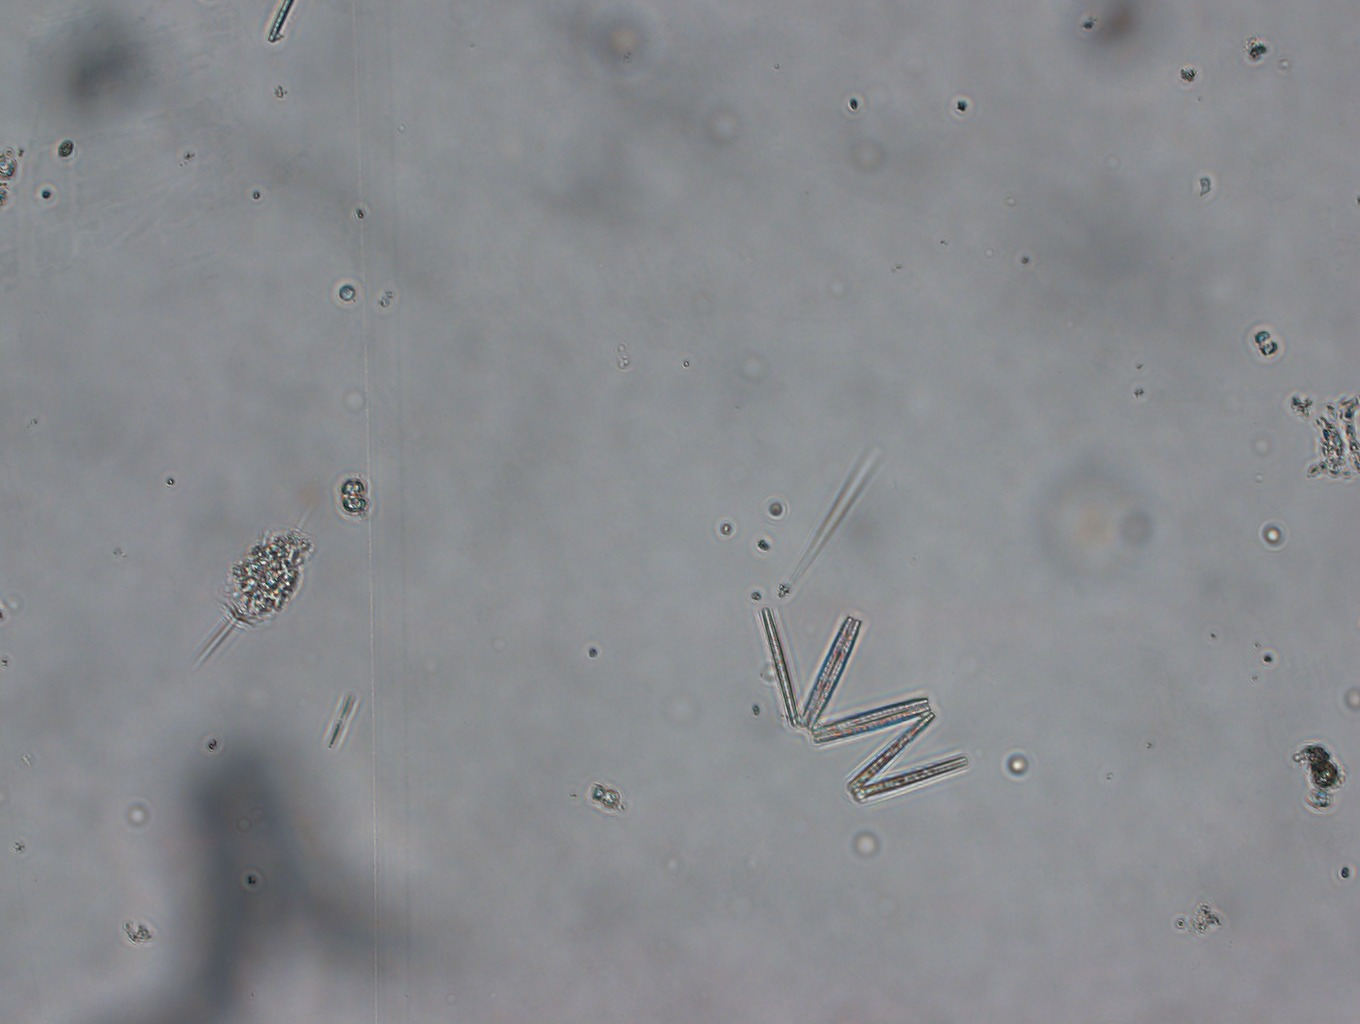thalassionema nitzschioides: (747, 596, 974, 805)
